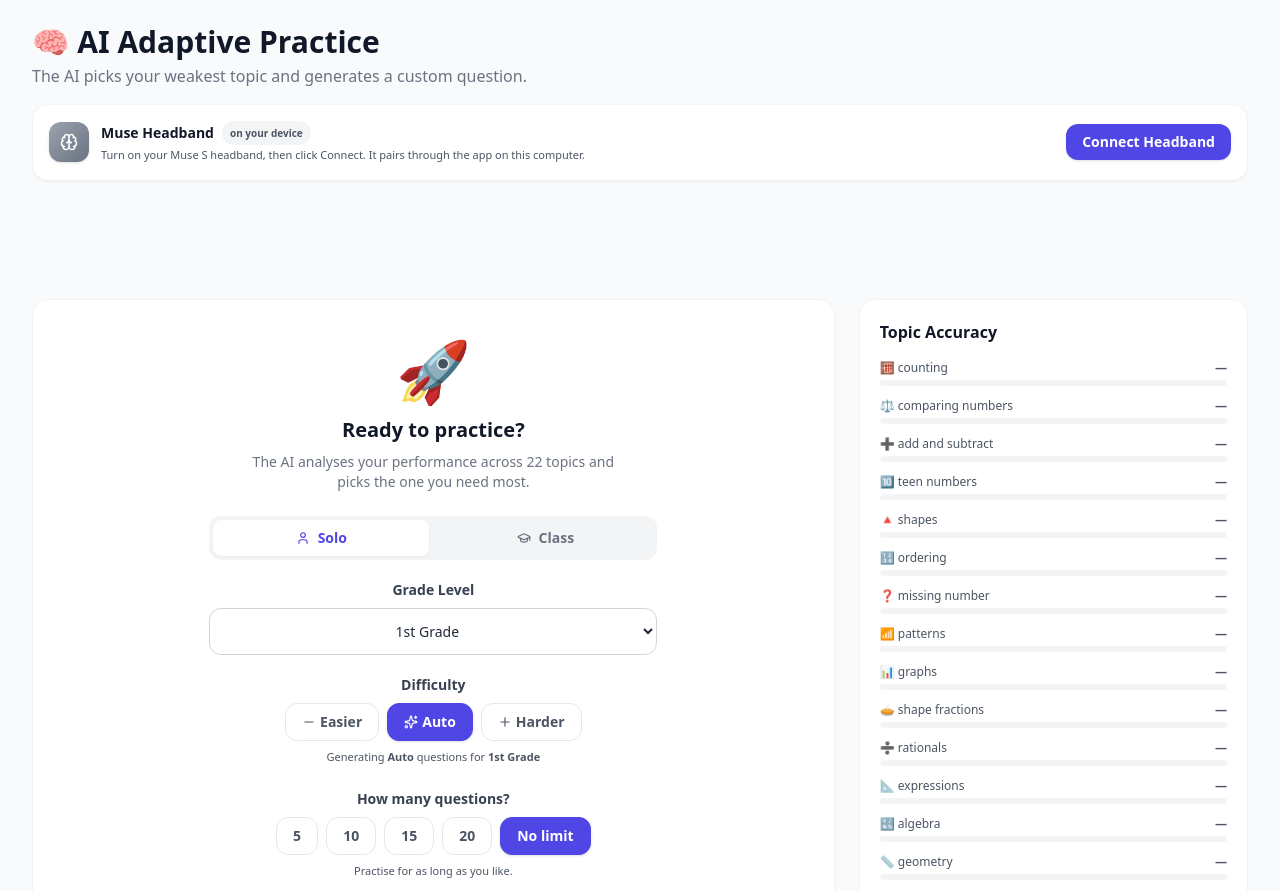
Test: waits neutrally on a connected headband before its readings come back
The image size is (1280, 891).
Click the button "Connect Headband": point(1149, 142) [1066,124,1231,160]
(page scrolled)
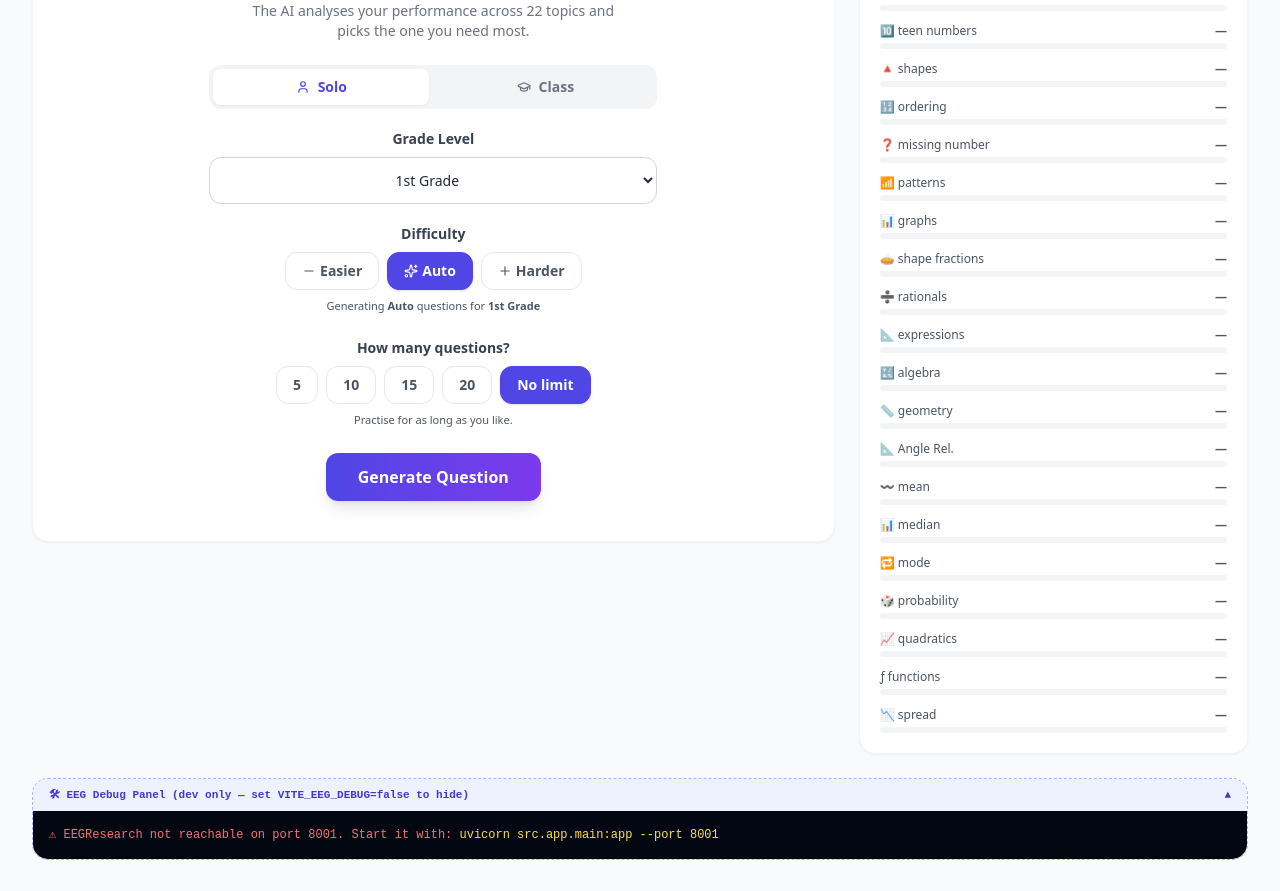
Click the button "Generate Question": point(433, 476) [326,452,541,500]
(page scrolled)
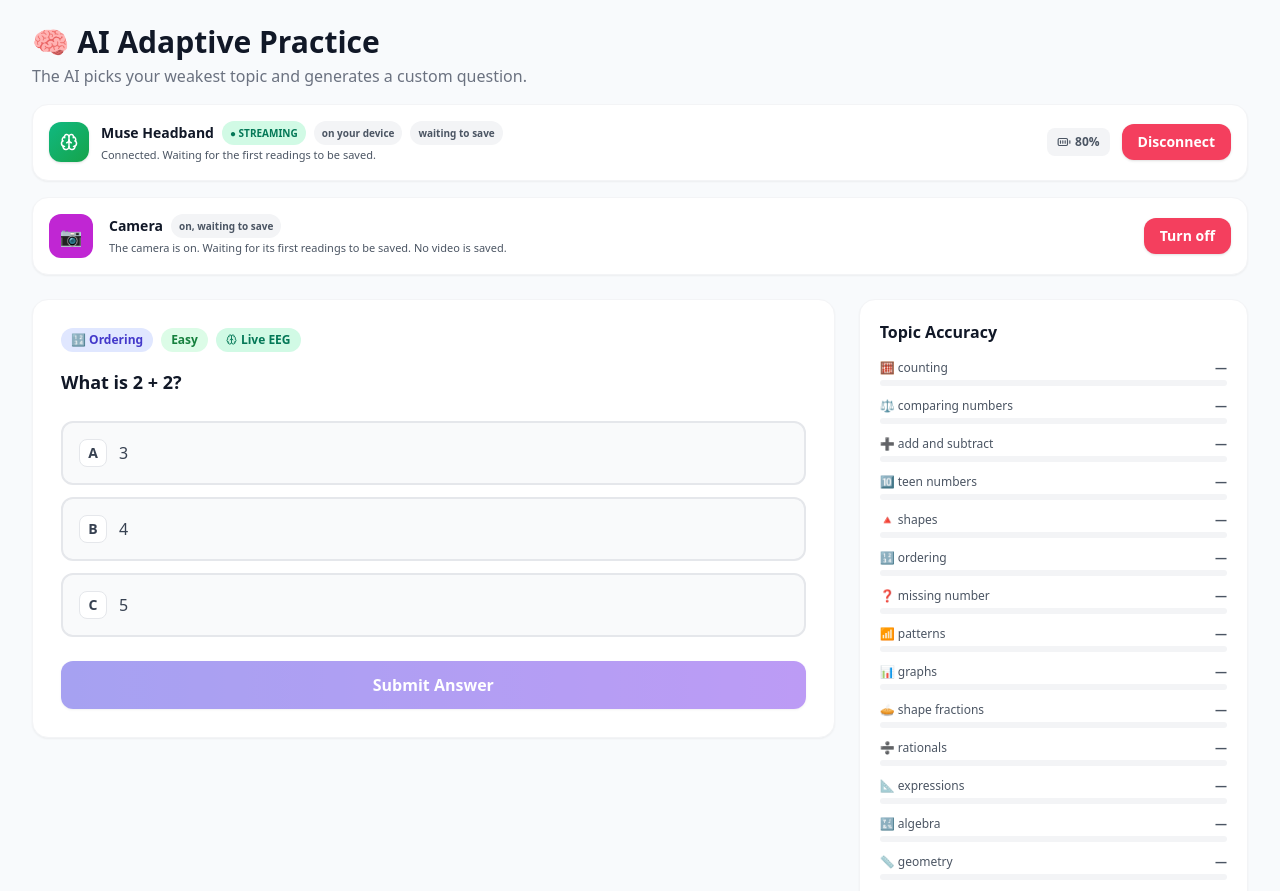
Result: the text "Connected. Waiting for the first readings to be saved." is shown at [101,147,376,162]
Result: the text "waiting to save" is shown at [410,121,503,145]
